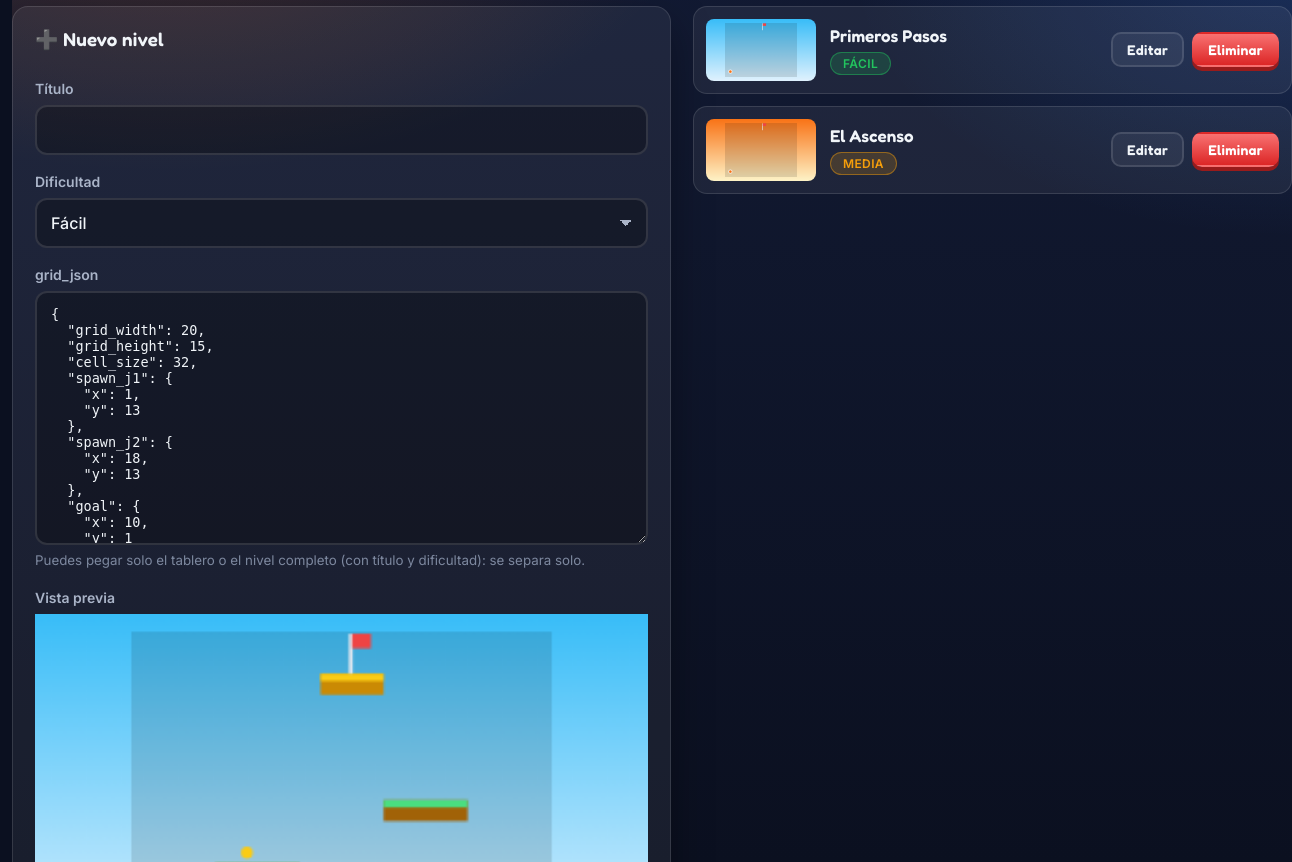
Test: LevelsAdminPanel › cancelar la edición vuelve al formulario vacío
Expected: the text "Primeros Pasos" is shown, [830, 25, 947, 46]
Click the button "Editar" in the row of "Primeros Pasos". click: (1148, 50)
box: [1111, 32, 1184, 67]
(page scrolled)
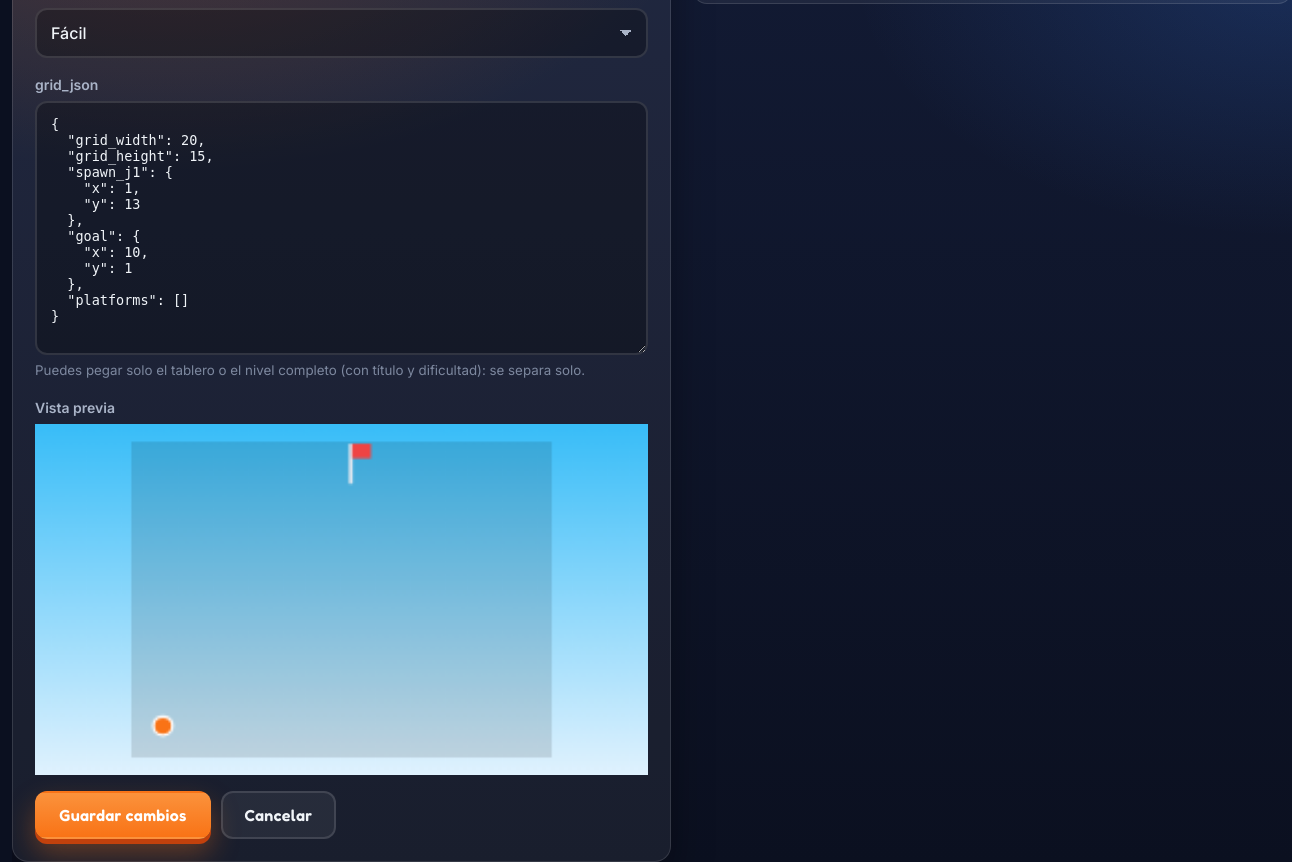
Click the button "Cancelar". click: (278, 815)
box: [221, 791, 336, 839]
(page scrolled)
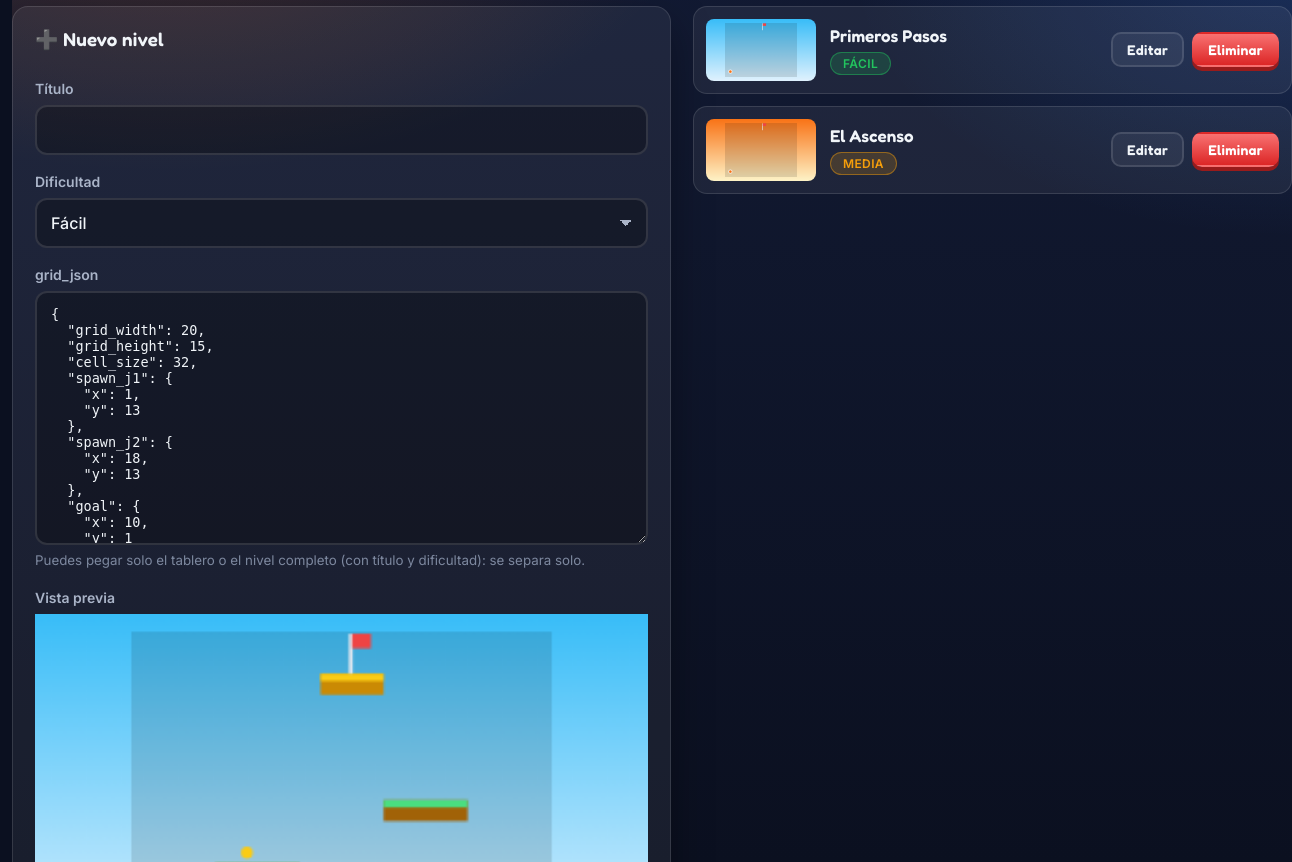
Now the heading "➕ Nuevo nivel" is shown, box [35, 28, 164, 50]
Now the field labelled "Título" is empty, box [35, 105, 648, 155]
